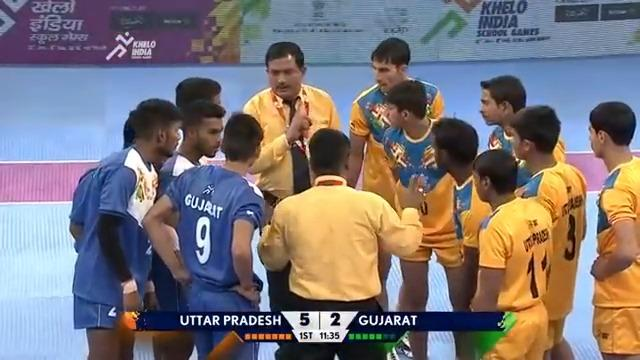Player: (66, 37, 632, 358), (256, 127, 424, 359), (142, 110, 265, 359), (68, 97, 184, 359), (345, 36, 445, 312), (379, 79, 465, 358), (507, 104, 587, 359), (462, 148, 554, 359), (586, 100, 639, 359), (478, 74, 566, 188)
referee: (241, 40, 342, 356)
